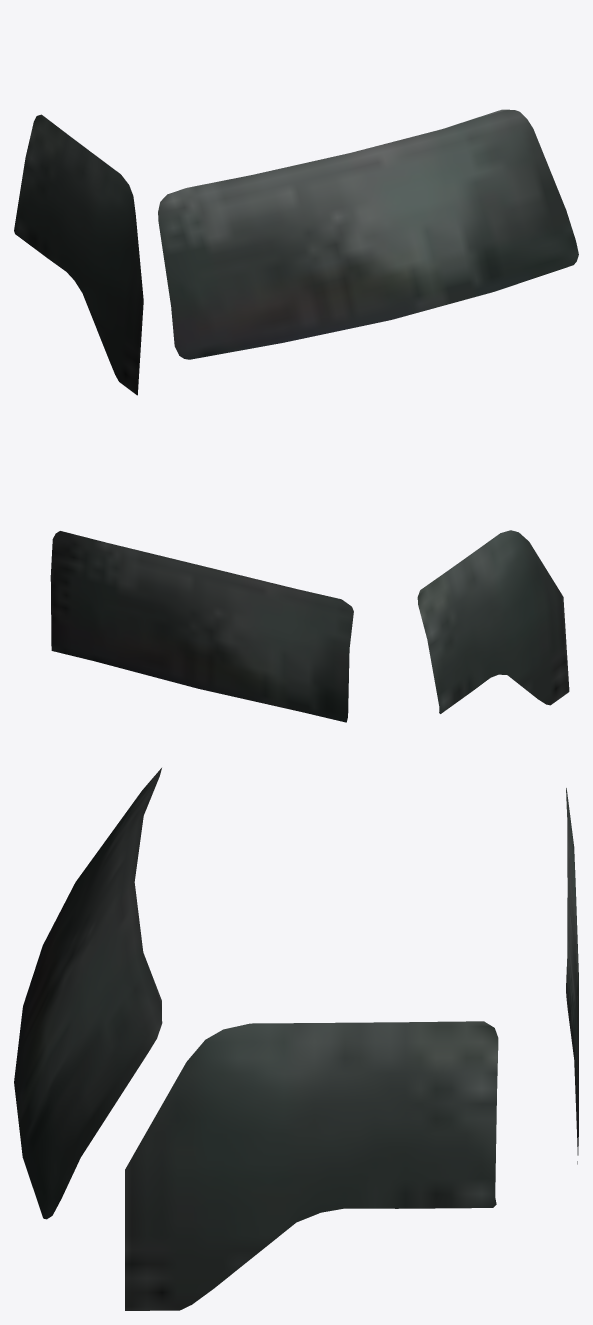
Rendered from truck_nuke_glass.glb.
The picture shows the model from 3 angles, top to bottom: view 1: azimuth 30°, elevation 25°; view 2: azimuth 150°, elevation 25°; view 3: azimuth 270°, elevation 25°; orthographic projection. The views are drawn at different scales.
Parts seen in each view (by area): view 1: 0_truck_nuke; view 2: 0_truck_nuke; view 3: 0_truck_nuke.
Part boxes in pixels (x1=…): 0_truck_nuke: x1=14, y1=109, x2=578, y2=395; 0_truck_nuke: x1=50, y1=530, x2=569, y2=722; 0_truck_nuke: x1=14, y1=768, x2=578, y2=1310.
Bounding box in the file's own units: 2.1 × 0.8724 × 1.63.
Materials: 1 (1 with a texture image).
